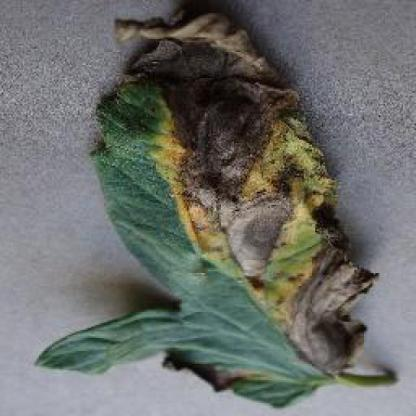Tomato_Blight: (88, 9, 378, 404)
